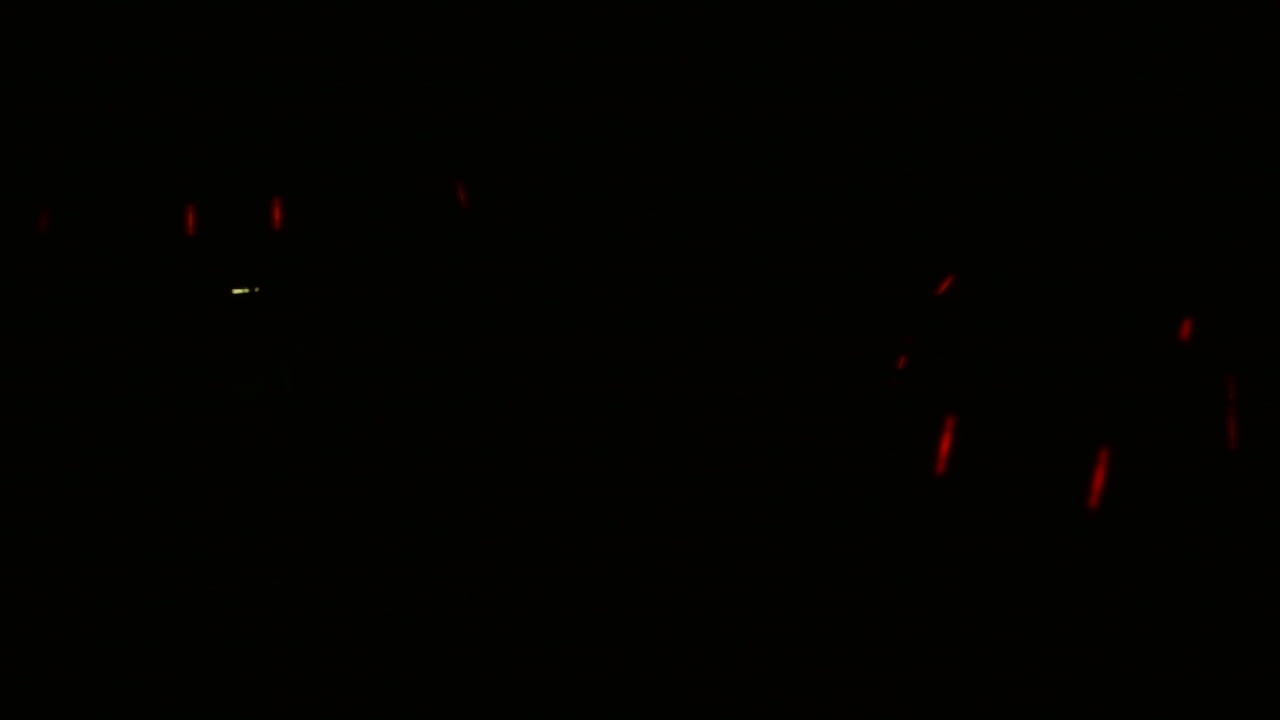pair1: (933, 412, 1109, 510), (176, 188, 293, 246)
